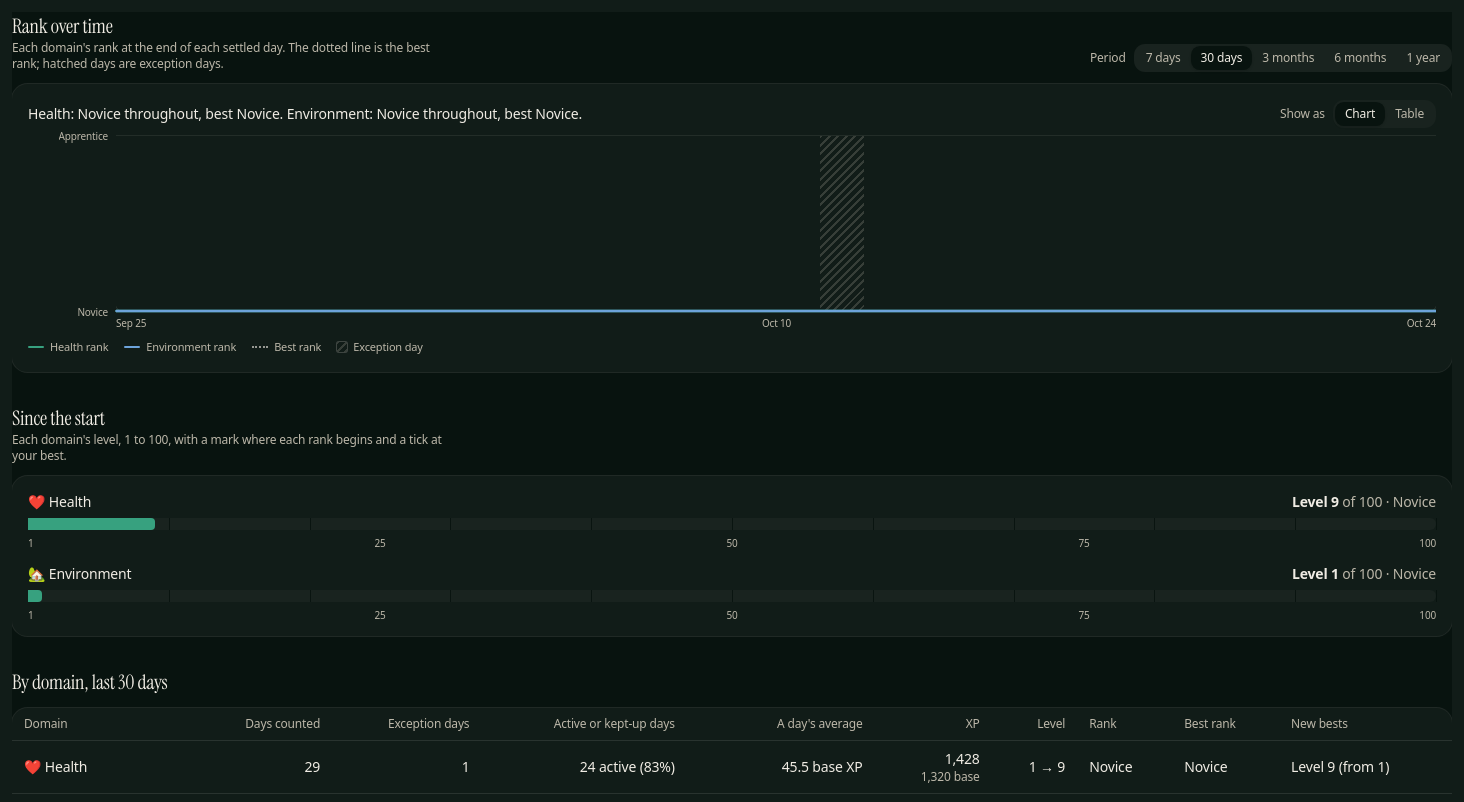
Test case: Character Reports (xp-domains plan §7.4.10) › switches the period and remembers the choice
The image size is (1464, 802).
Check: the element with test id "rank-chart" is shown, box [116, 136, 1436, 312]
What coordinates should you click on to do the following:
click the button "3 months"
I would click on:
 (1288, 58)
Its box is [1252, 46, 1324, 70].
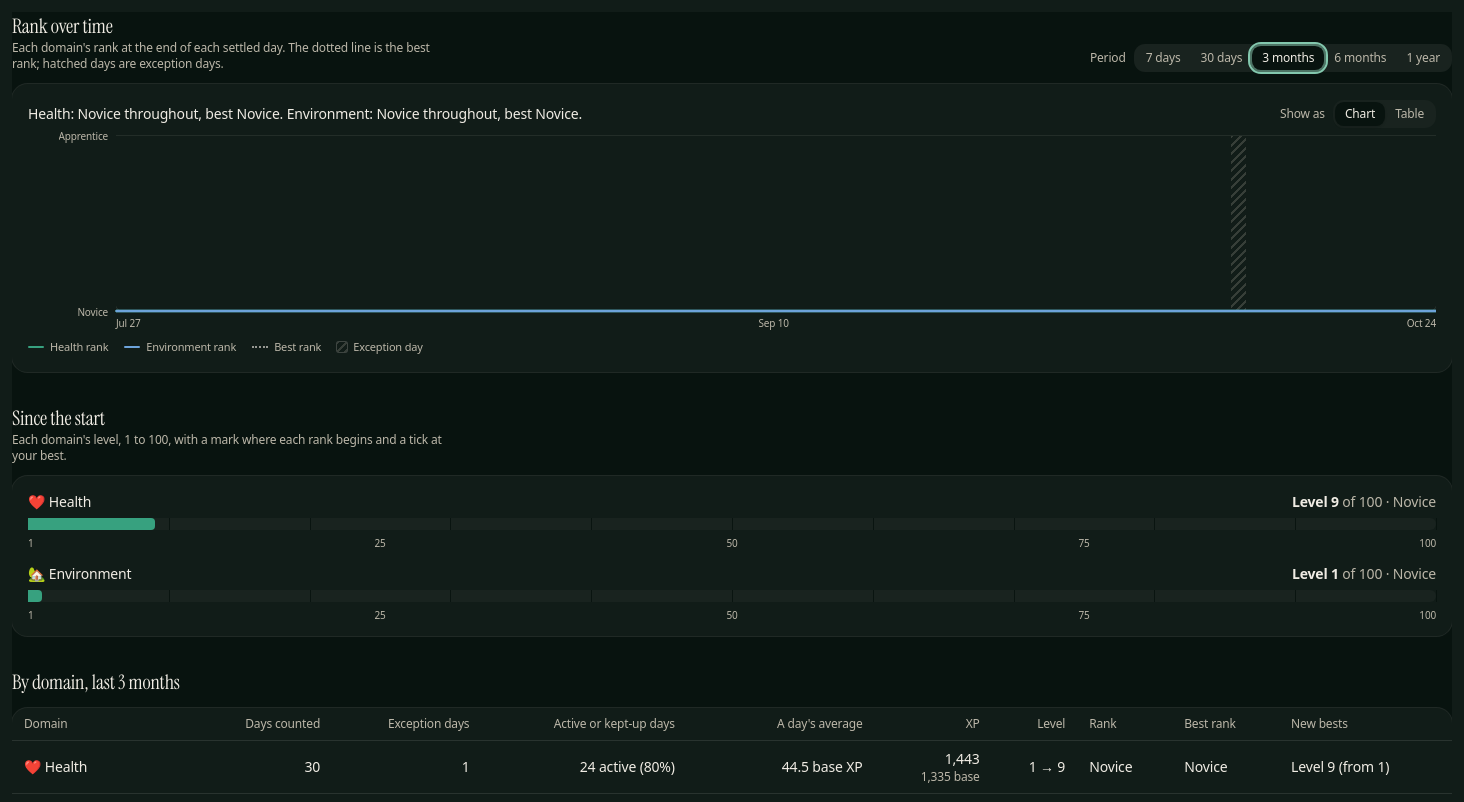
Check: the heading "By domain, last 3 months" is shown, box [12, 668, 180, 694]
